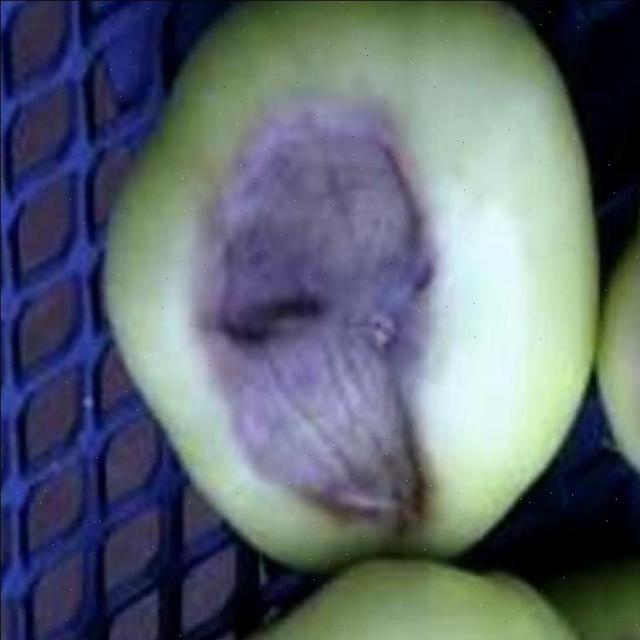Blossom End Rot Fruit: (122, 65, 292, 356)
